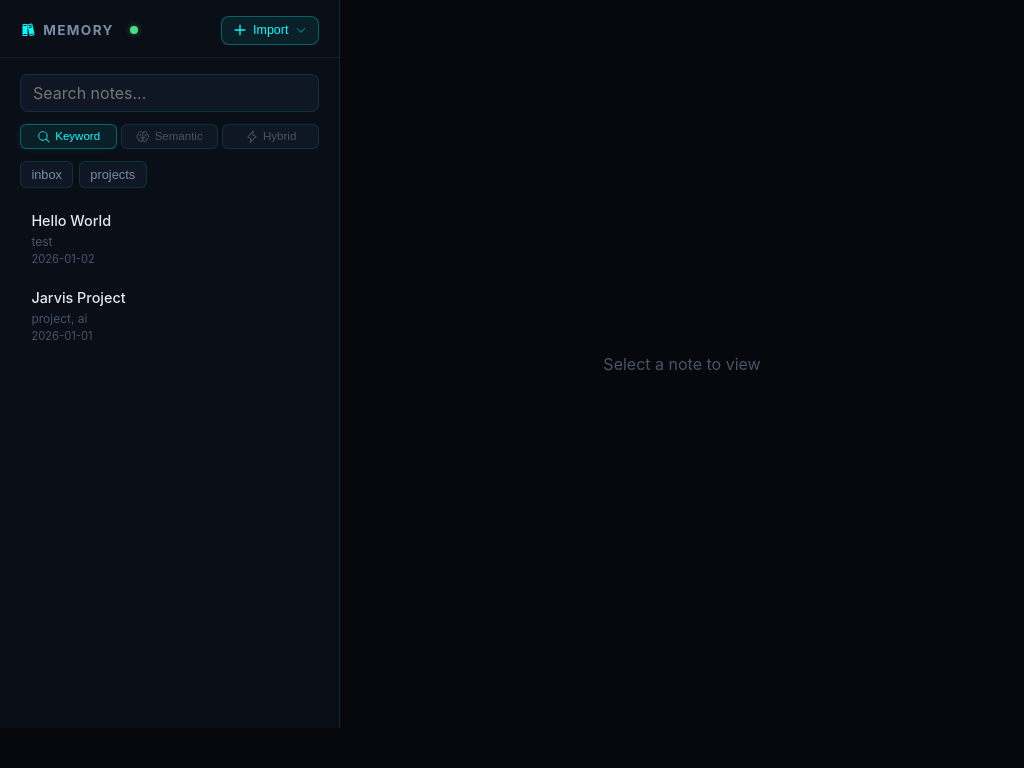
pages/memory.vue › clear search restores folder view
This screenshot has width=1024, height=768.
Type "test" into the field with class "note-list__search-input".
click(170, 93); type("test")  # box [20, 74, 319, 112]
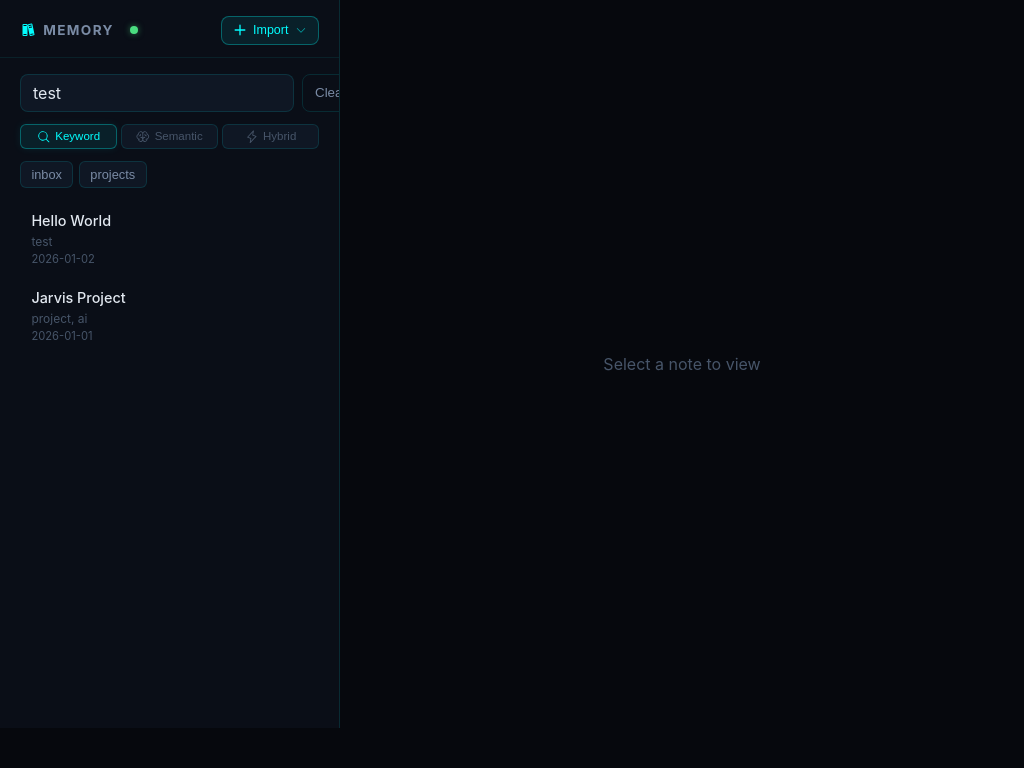
Press Enter in the field with class "note-list__search-input", box [20, 74, 294, 112]
Result: the button with class "note-list__clear" is shown at [302, 74, 339, 112]
Click the button with class "note-list__clear".
click(331, 93)  # box [302, 74, 360, 112]
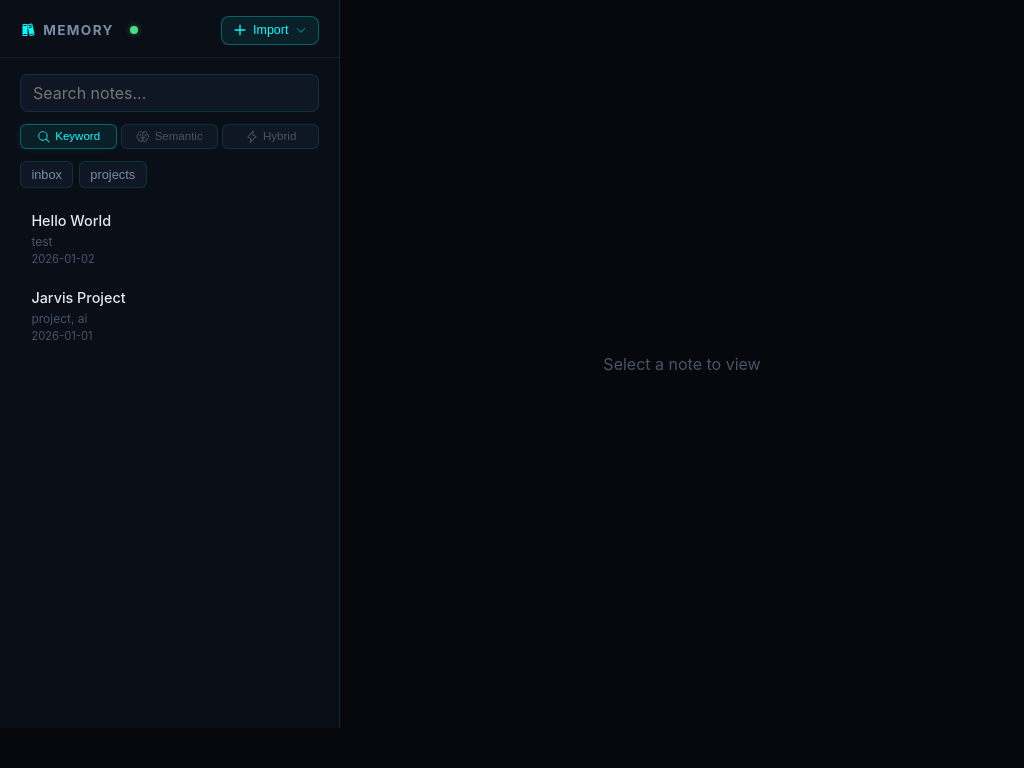
Result: the field with class "note-list__search-input" is empty at [20, 74, 319, 112]
